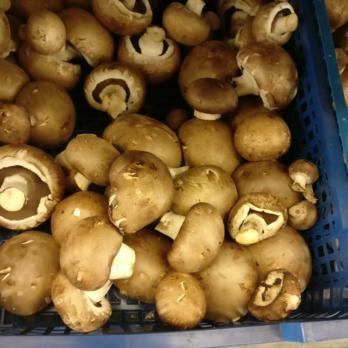Mushroom: (0, 0, 166, 324), (169, 0, 317, 315)
